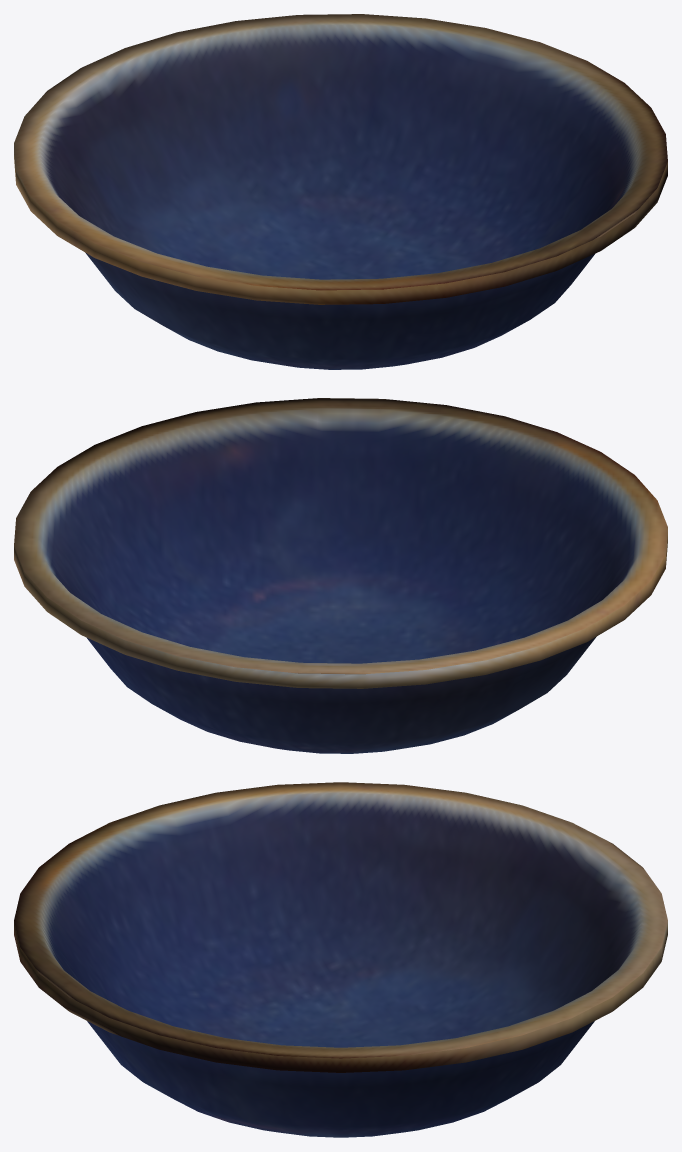
The model's file is bowl.glb.
3 renders of one model, top to bottom at view 1: azimuth 30°, elevation 25°; view 2: azimuth 150°, elevation 25°; view 3: azimuth 270°, elevation 25°, orthographic.
Visible parts, largest first — view 1: large Blue Bowl; view 2: large Blue Bowl; view 3: large Blue Bowl.
Part boxes in pixels (bbox=[...]): large Blue Bowl: bbox=[14, 14, 667, 369]; large Blue Bowl: bbox=[14, 398, 667, 753]; large Blue Bowl: bbox=[14, 782, 667, 1137].
Size of the model in its own units: 6.26 by 1.76 by 6.26.
Materials: 1 (1 with a texture image).
